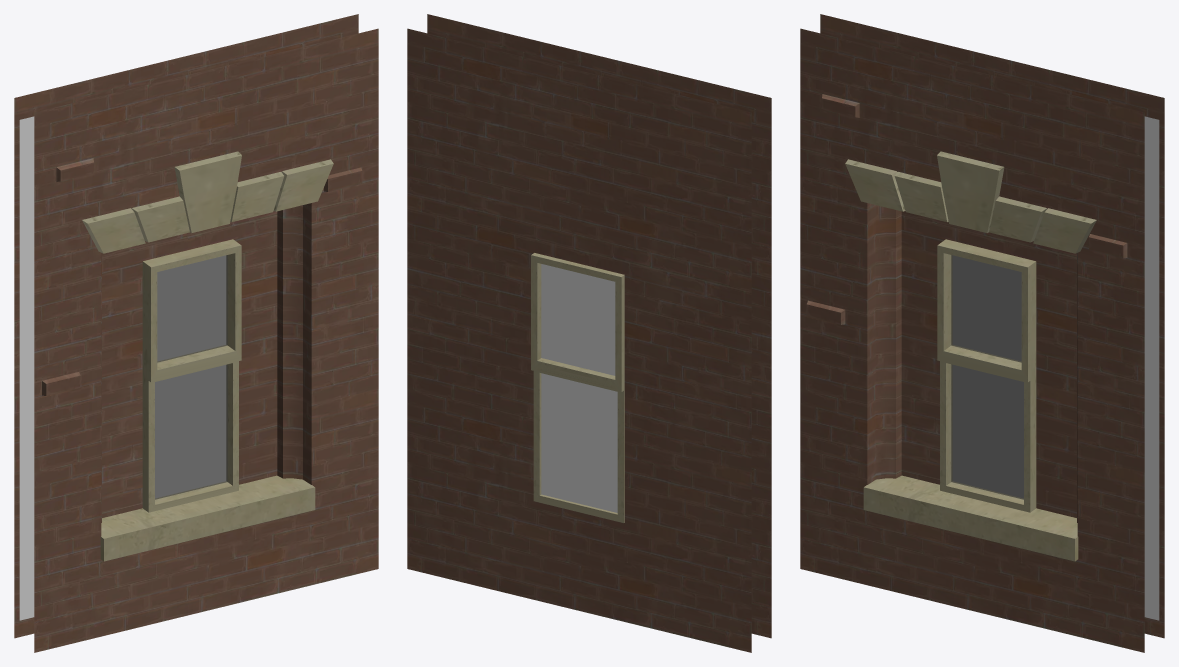
File: Brick_Window_Trim_Single.glb
3 renders of one model, left to right at view 1: azimuth 30°, elevation 25°; view 2: azimuth 150°, elevation 25°; view 3: azimuth 330°, elevation 25°, orthographic.
Visible parts, largest first — view 1: Brick_Window_Trim_Single; view 2: Brick_Window_Trim_Single; view 3: Brick_Window_Trim_Single.
Part boxes in pixels (x1,y1,x2,y2): Brick_Window_Trim_Single: [14, 14, 378, 652]; Brick_Window_Trim_Single: [407, 14, 771, 652]; Brick_Window_Trim_Single: [800, 14, 1164, 652].
Bounding box in the file's own units: 2 × 3 × 0.2769.
4 materials, 2 textured.
